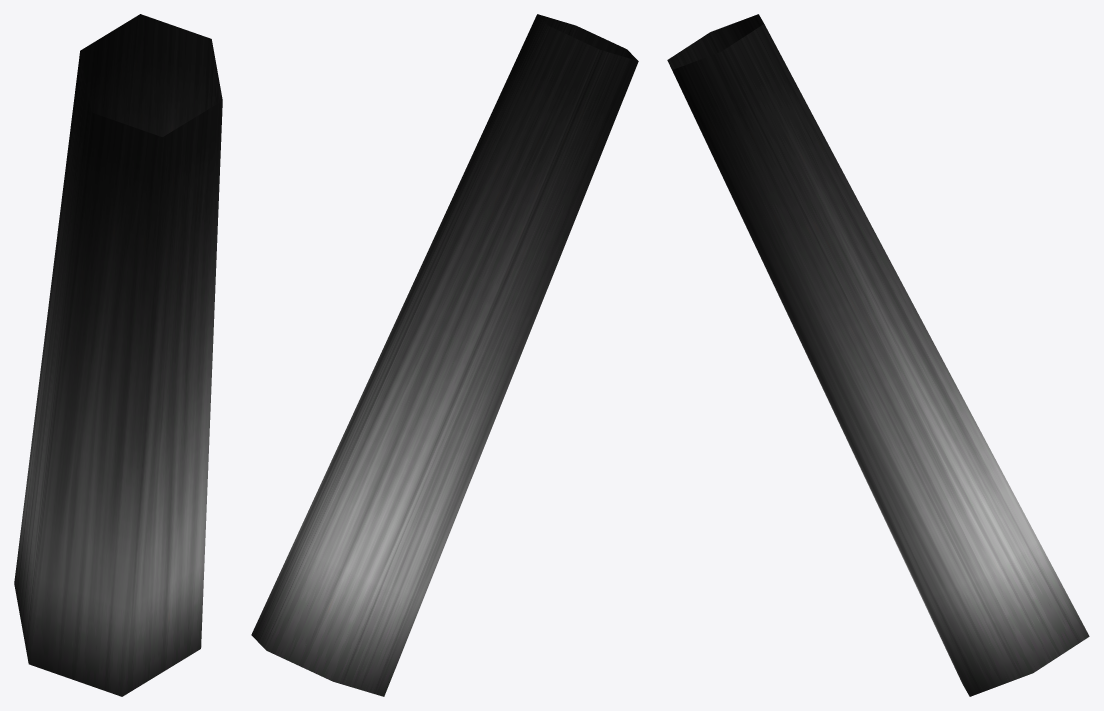
The model's file is chestLightshaft.fbx.
3 renders of one model, left to right at view 1: azimuth 30°, elevation 25°; view 2: azimuth 150°, elevation 25°; view 3: azimuth 270°, elevation 25°, orthographic. The views are drawn at different scales.
Visible parts, largest first — view 1: chestLightshaft; view 2: chestLightshaft; view 3: chestLightshaft.
Boxes of the visible parts, left/top/right/bottom form: chestLightshaft: left=14, top=14, right=222, bottom=696; chestLightshaft: left=251, top=14, right=638, bottom=696; chestLightshaft: left=667, top=14, right=1089, bottom=696.
Bounding box in the file's own units: 4.78 × 12.04 × 7.44.
